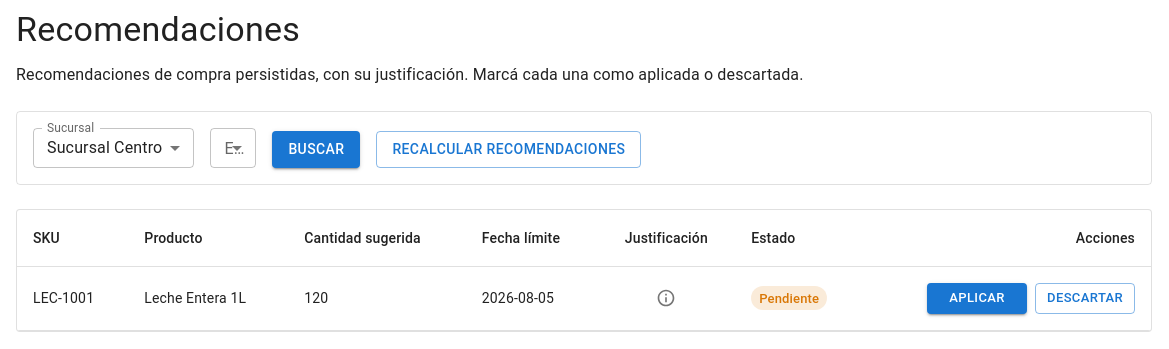
Test: RecommendationsPage › actualiza la fila con la respuesta del backend sin volver a consultar
Click the button "Aplicar". click: point(977, 298)
box: [927, 283, 1027, 314]
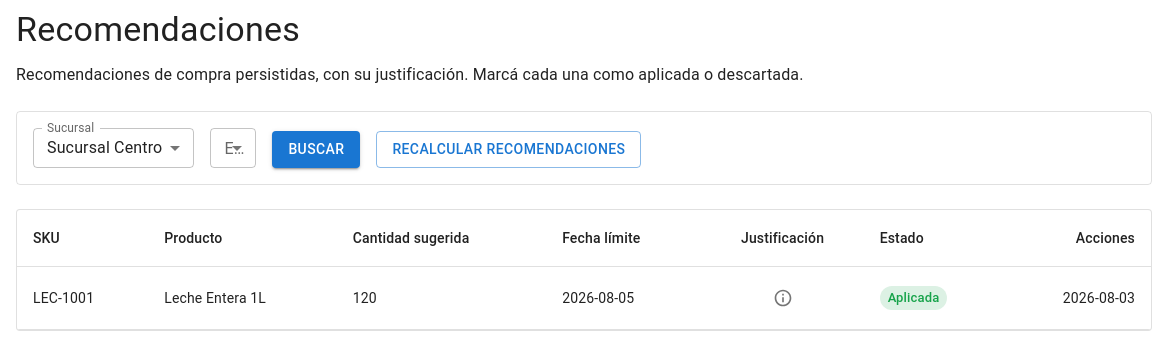
Check: the text "2026-08-03" is shown, box [1004, 266, 1151, 329]
Check: the button "Aplicar" is gone
